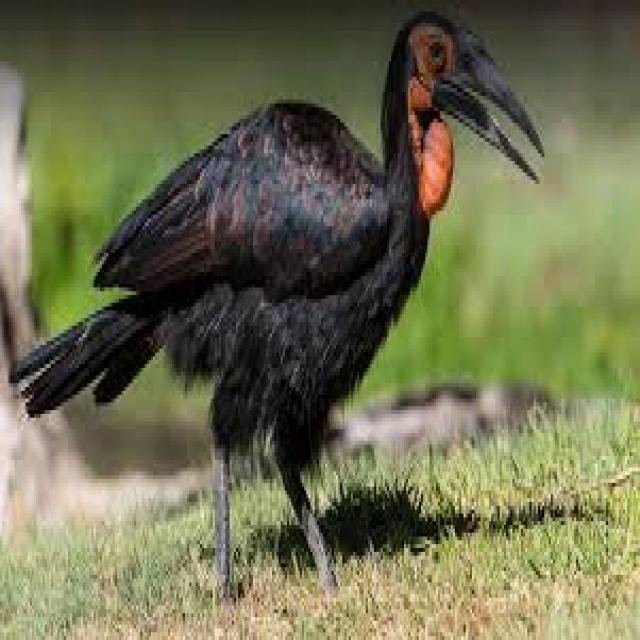Hornbill: (32, 12, 546, 588)
